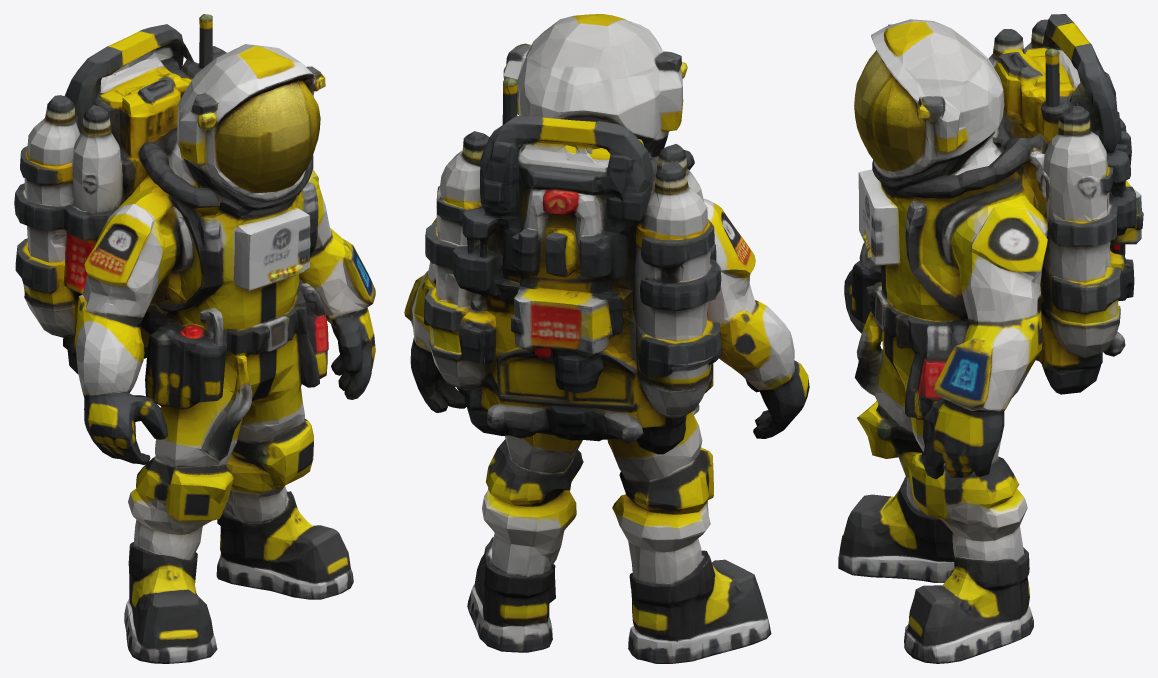
File: OrbitalAstronaut.glb
3 views of the same model, side by side, from view 1: azimuth 30°, elevation 25°; view 2: azimuth 150°, elevation 25°; view 3: azimuth 270°, elevation 25° (orthographic). The views are drawn at different scales.
Visible parts, largest first — view 1: world; view 2: world; view 3: world.
Boxes of the visible parts, x1,y1,x2,y2 form: world: [14, 14, 375, 663]; world: [404, 14, 809, 663]; world: [838, 14, 1143, 663].
Bounding box in the file's own units: 0.6181 × 1 × 0.4757.
1 material, 1 textured.
